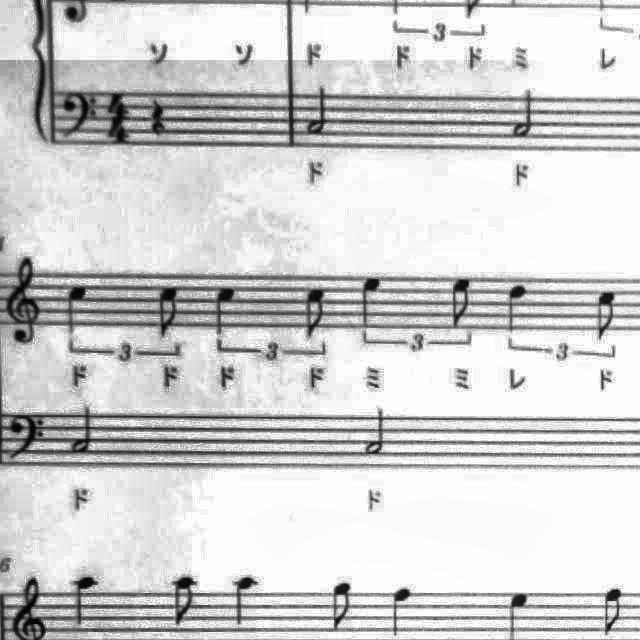Bass-clef: (0, 407, 48, 468), (56, 84, 102, 144)
Eighth-note: (596, 580, 638, 640), (151, 280, 189, 346), (167, 570, 206, 634), (297, 282, 333, 346), (442, 274, 480, 334), (588, 284, 624, 346), (326, 576, 362, 636)
Half-note: (66, 400, 102, 460), (506, 82, 542, 142), (300, 84, 336, 142), (358, 403, 392, 461)
Quarter-note: (500, 332, 622, 364), (351, 272, 389, 336), (227, 569, 266, 631), (60, 278, 96, 342), (206, 280, 242, 342), (70, 571, 106, 633), (499, 278, 536, 338), (382, 581, 420, 639)
Quarter-rest: (144, 90, 174, 142)
Treble-clef: (0, 252, 46, 352)
